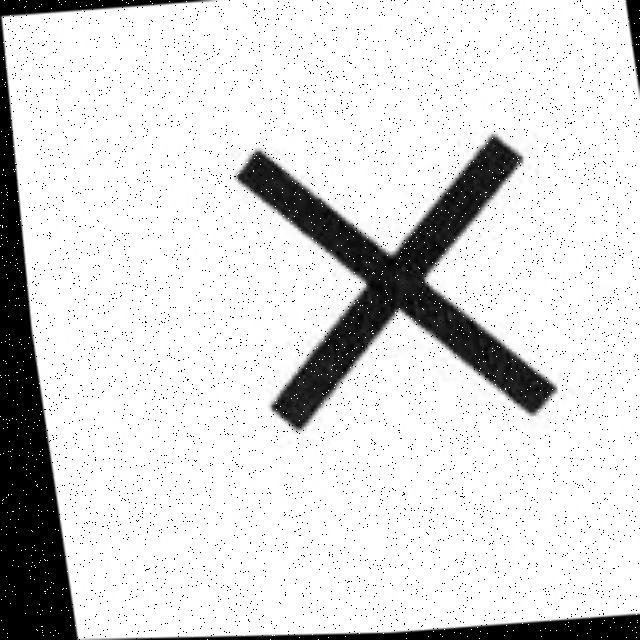cross: (215, 119, 580, 448)
